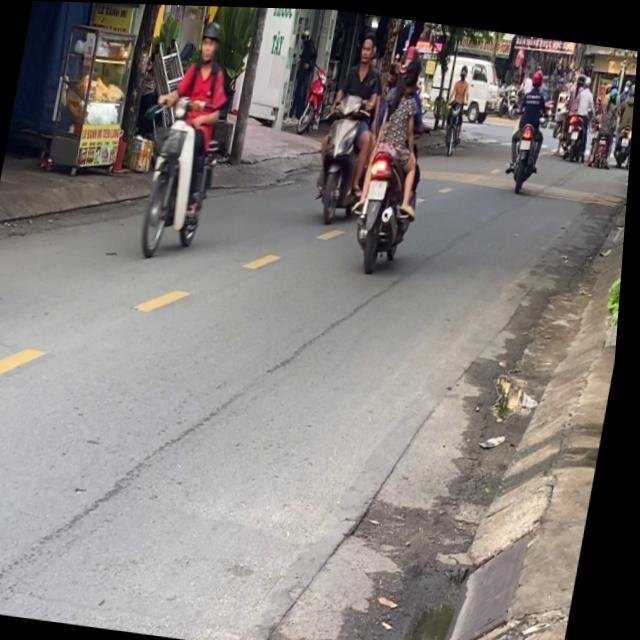helmet: (196, 18, 224, 63)
licenseplate: (135, 12, 245, 262), (351, 38, 446, 272), (308, 26, 393, 225)
motorcyclist: (400, 47, 426, 89), (356, 31, 377, 66)
nohelmet: (369, 175, 390, 198)
